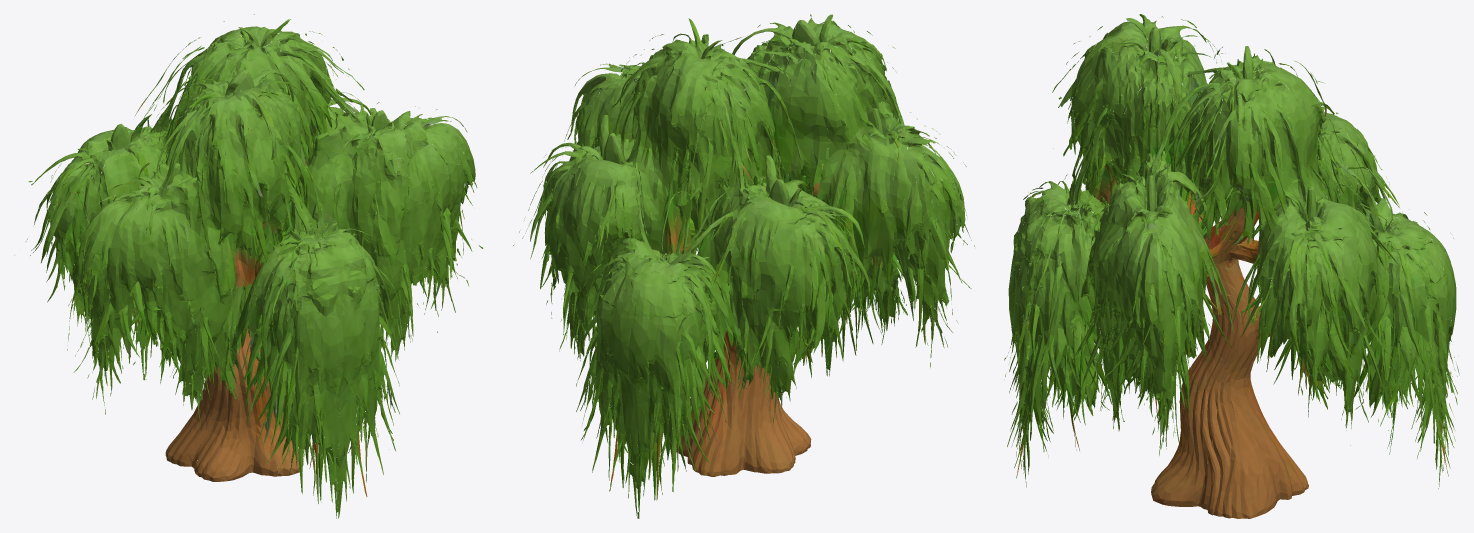
Rendered from 7_willow.glb.
The picture shows the model from 3 angles, left to right: view 1: azimuth 30°, elevation 25°; view 2: azimuth 150°, elevation 25°; view 3: azimuth 270°, elevation 25°; orthographic projection. The views are drawn at different scales.
Parts seen in each view (by area): view 1: tripo_node_318c485d-6745-40ed-937d-d2518e2bc0e6; view 2: tripo_node_318c485d-6745-40ed-937d-d2518e2bc0e6; view 3: tripo_node_318c485d-6745-40ed-937d-d2518e2bc0e6.
Part boxes in pixels (<box>): tripo_node_318c485d-6745-40ed-937d-d2518e2bc0e6: <box>14,14,483,518</box>; tripo_node_318c485d-6745-40ed-937d-d2518e2bc0e6: <box>513,14,974,518</box>; tripo_node_318c485d-6745-40ed-937d-d2518e2bc0e6: <box>1004,14,1459,518</box>.
Bounding box in the file's own units: 1 × 0.9994 × 0.9138.
1 material, 1 textured.
